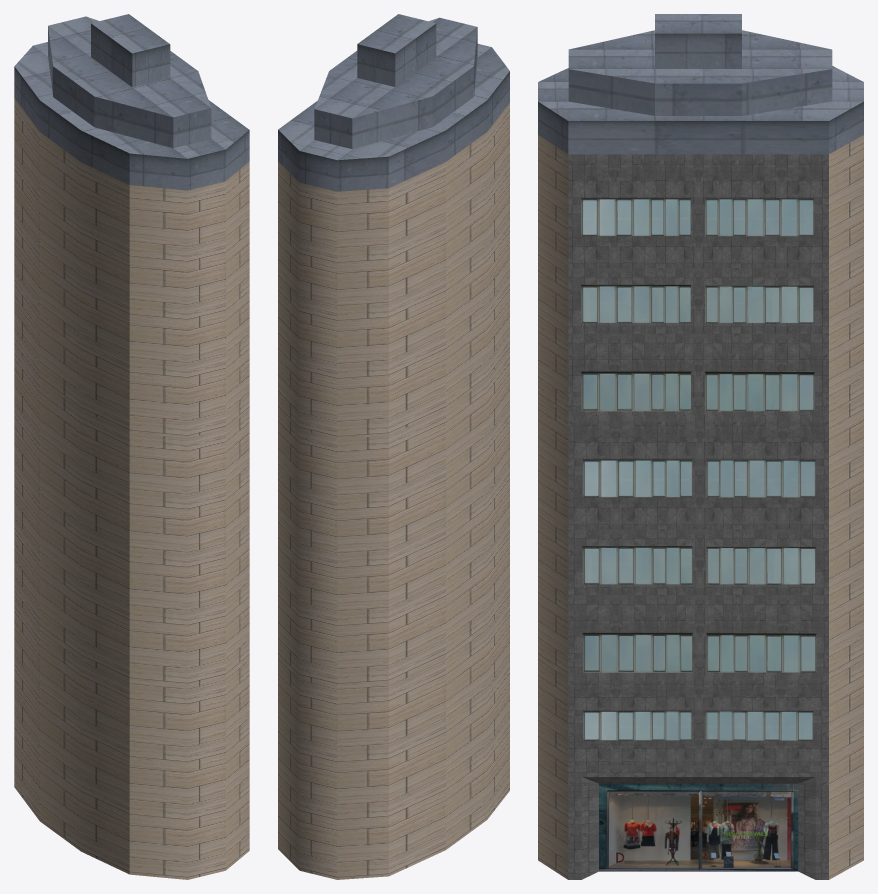
The model's file is Pizza_Delivery skyscraper6.fbx.
3 renders of one model, left to right at view 1: azimuth 30°, elevation 25°; view 2: azimuth 150°, elevation 25°; view 3: azimuth 270°, elevation 25°, orthographic. The views are drawn at different scales.
Visible parts, largest first — view 1: Pizza_Delivery:Pizza_Delivery:skyscraper6; view 2: Pizza_Delivery:Pizza_Delivery:skyscraper6; view 3: Pizza_Delivery:Pizza_Delivery:skyscraper6.
Boxes of the visible parts, box(x1,y1,x2,y2) form: Pizza_Delivery:Pizza_Delivery:skyscraper6: box(14, 14, 249, 879); Pizza_Delivery:Pizza_Delivery:skyscraper6: box(278, 14, 509, 879); Pizza_Delivery:Pizza_Delivery:skyscraper6: box(538, 14, 863, 879).
Size of the model in its own units: 6.68 by 39.49 by 14.1.
